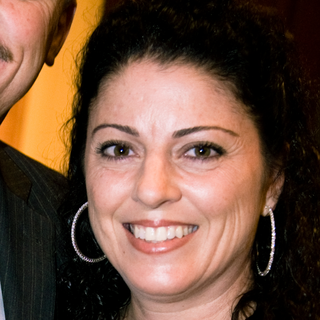eye: (175, 139, 227, 164), (97, 139, 140, 164)
